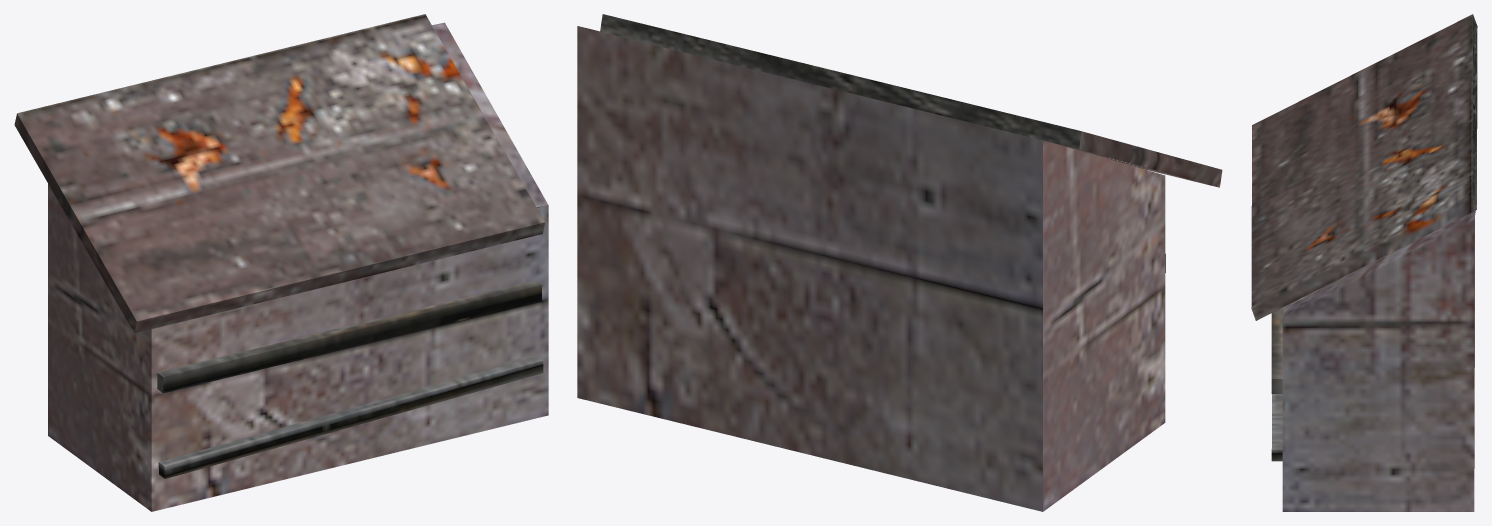
File: TrashCan.FBX
The picture shows the model from 3 angles, left to right: view 1: azimuth 30°, elevation 25°; view 2: azimuth 150°, elevation 25°; view 3: azimuth 270°, elevation 25°; orthographic projection. The views are drawn at different scales.
Visible parts, largest first — view 1: TrashCan; view 2: TrashCan; view 3: TrashCan.
Boxes of the visible parts, left/top/right/bottom form: TrashCan: left=14, top=14, right=548, bottom=511; TrashCan: left=577, top=14, right=1222, bottom=511; TrashCan: left=1251, top=14, right=1477, bottom=511.
Bounding box in the file's own units: 143 × 105 × 70.69.
